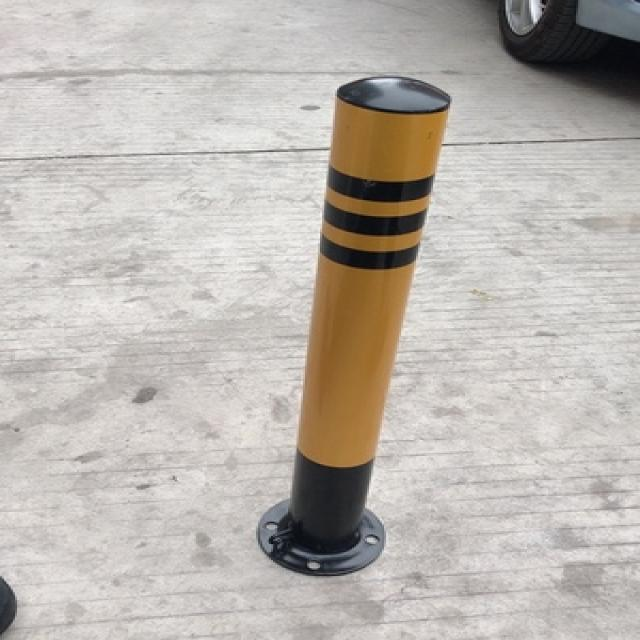warning_column: (252, 72, 458, 571)
